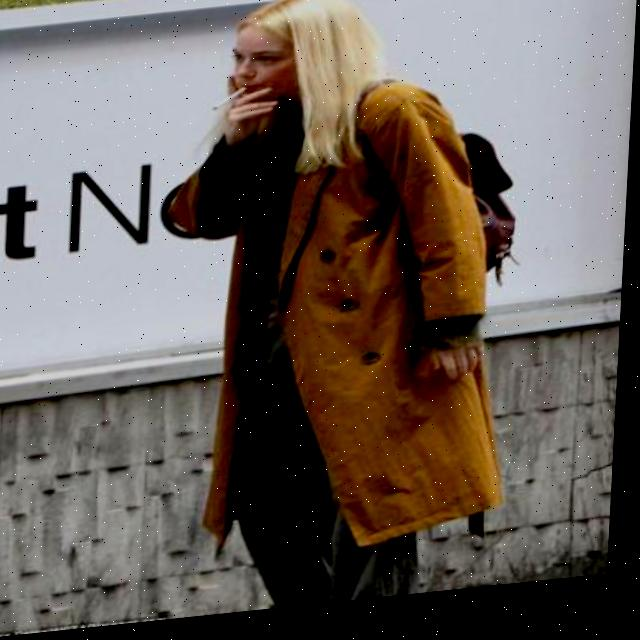cigarette: (208, 93, 252, 117)
